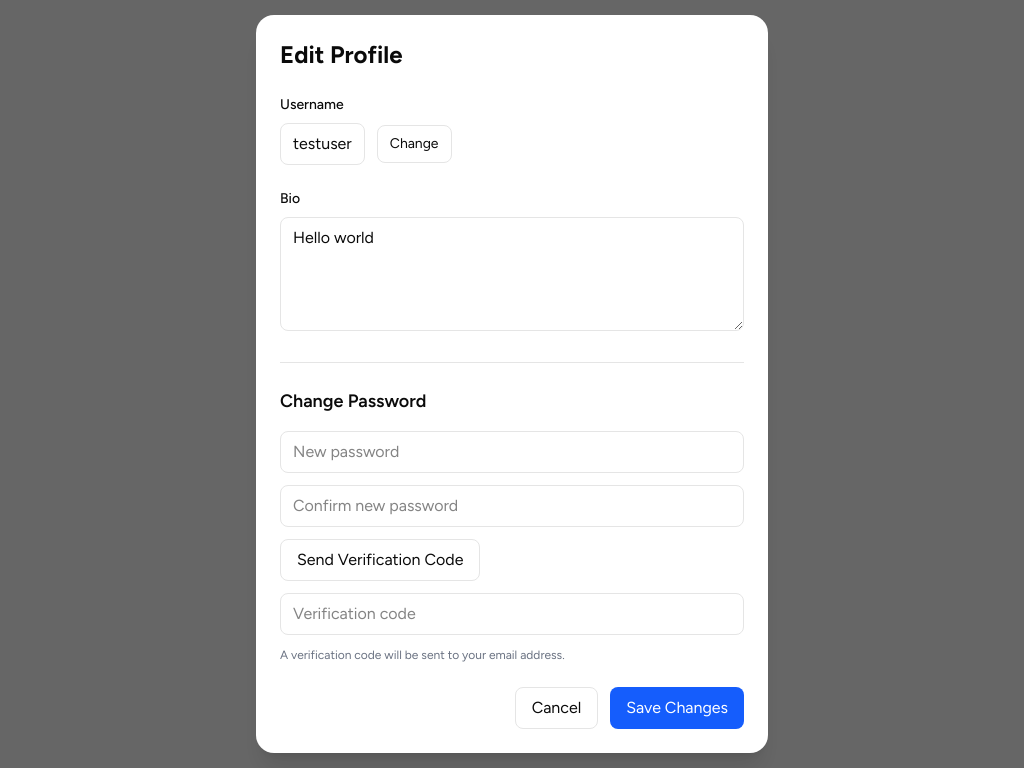
Test: EditProfileModal submit › shows error when passwords do not match
Type "password123" into the password field with placeholder "New password" at (512, 452), box [280, 431, 744, 473]
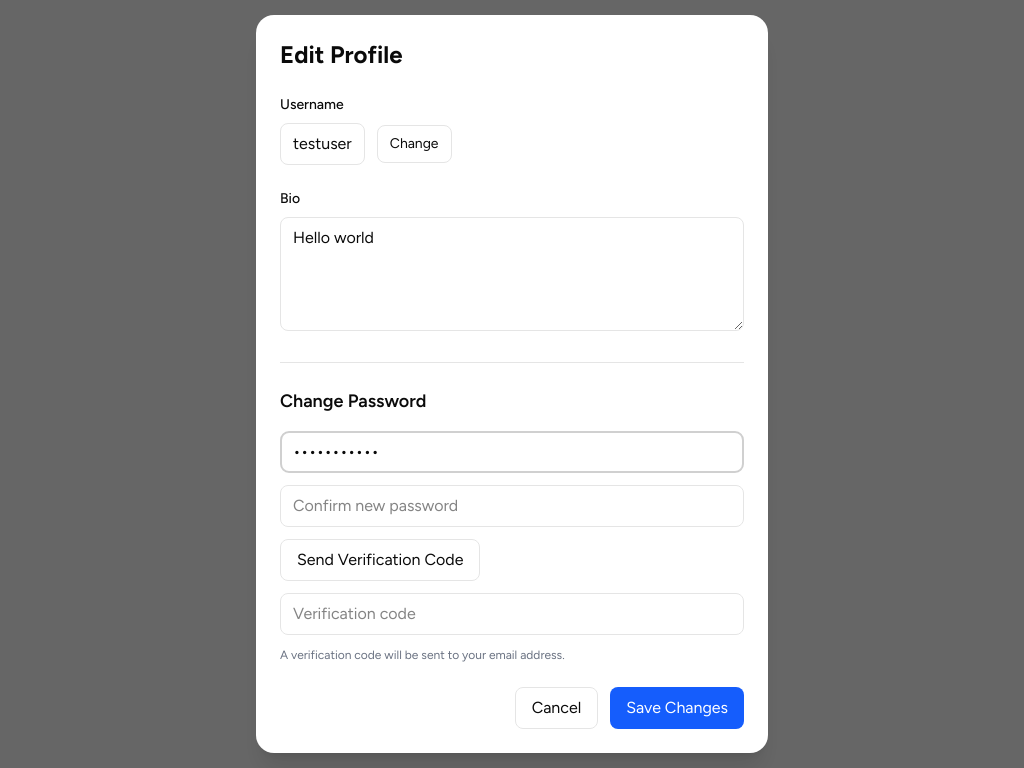
Type "different123" into the password field with placeholder "Confirm new password" at (512, 506), box [280, 485, 744, 527]
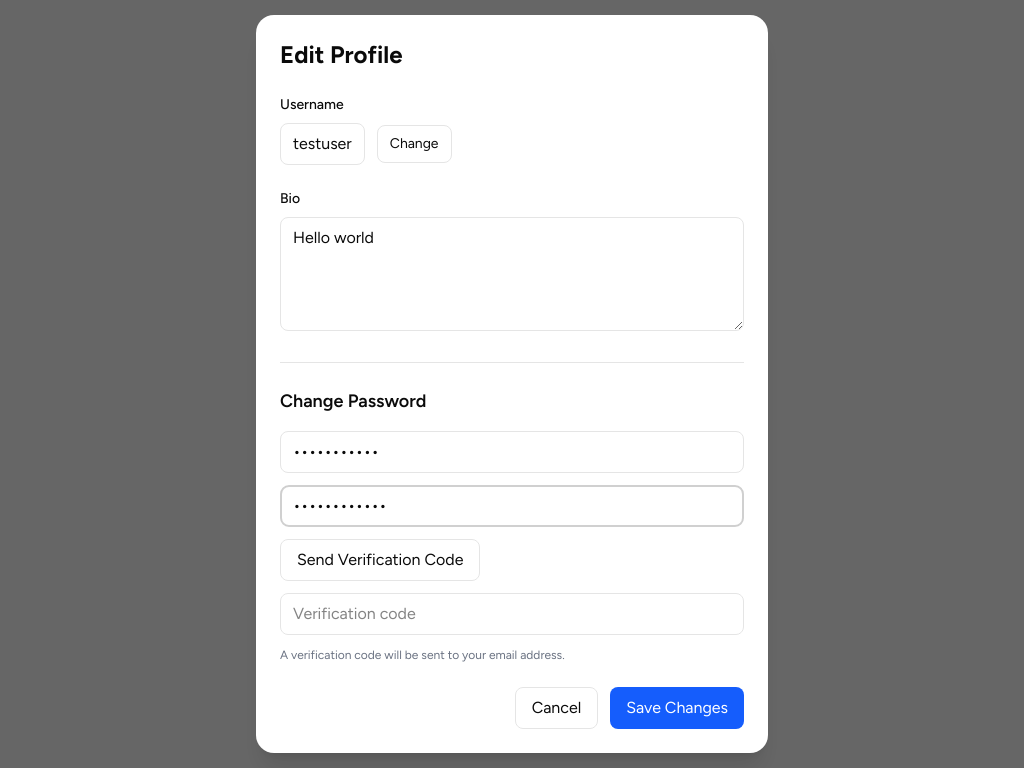
Click the button with test id "save-profile" at (677, 708), box [610, 687, 744, 729]
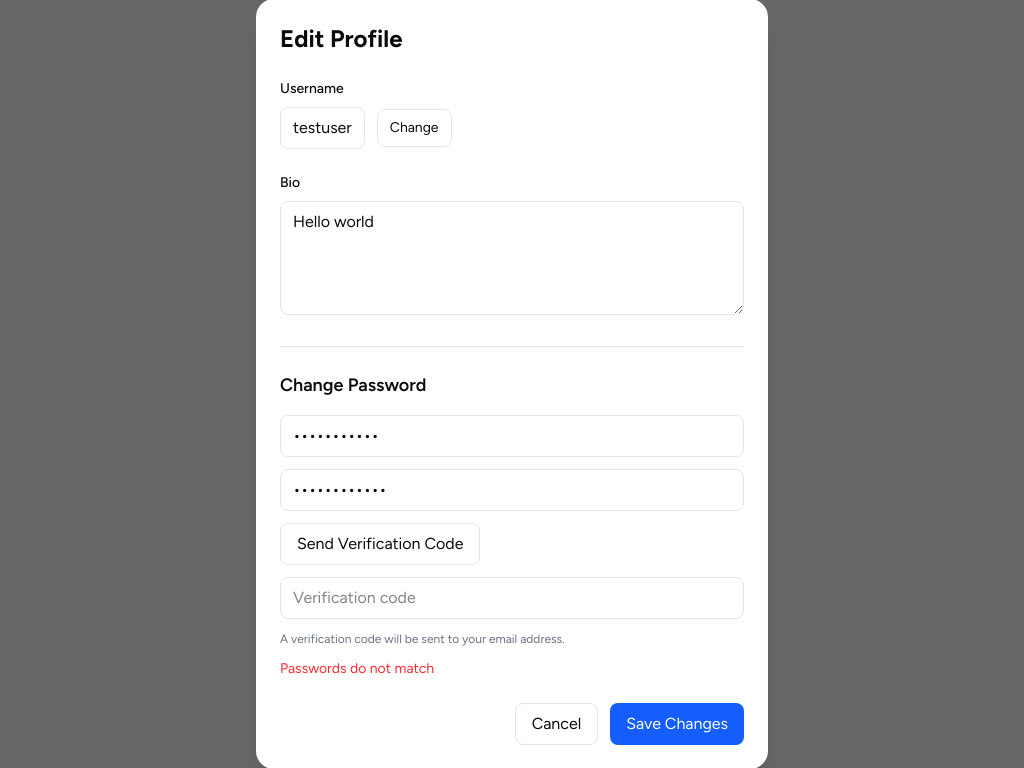
Check: the text "Passwords do not match" is shown, box [280, 660, 434, 677]
